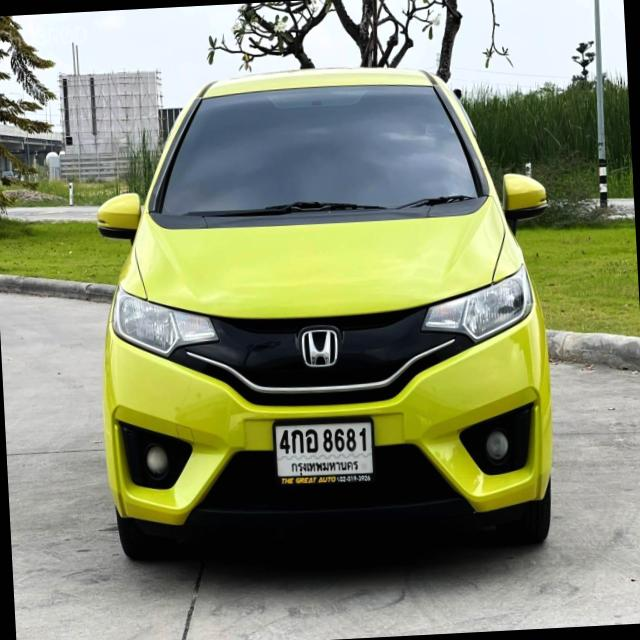license_plate: (271, 411, 378, 492)
